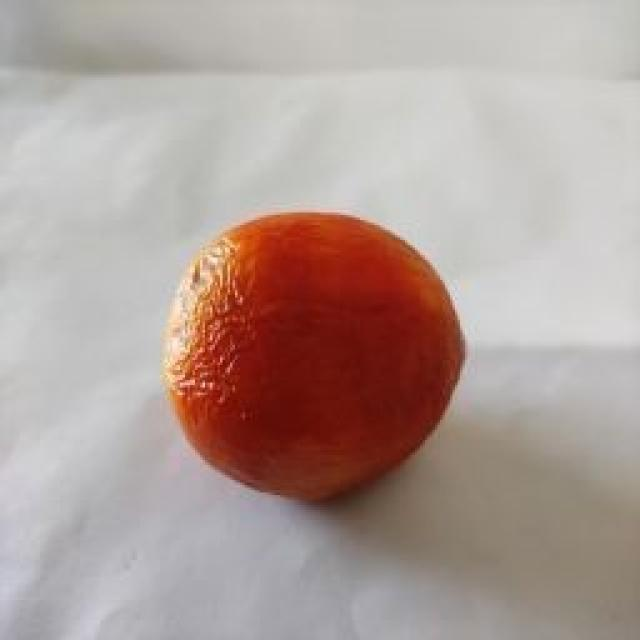overripe: (161, 207, 468, 502)
